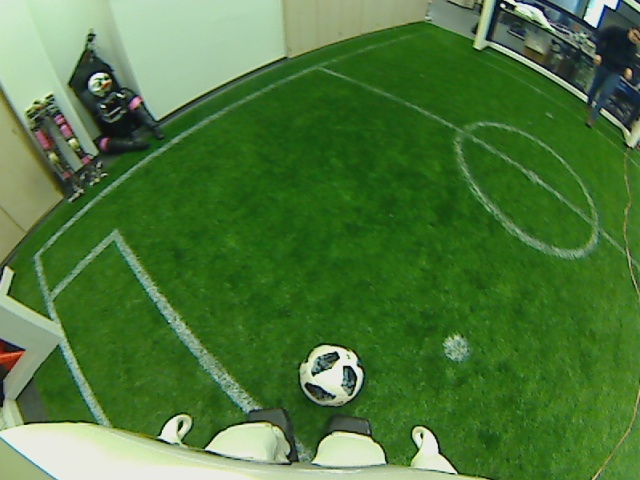ball: (296, 342, 364, 409)
